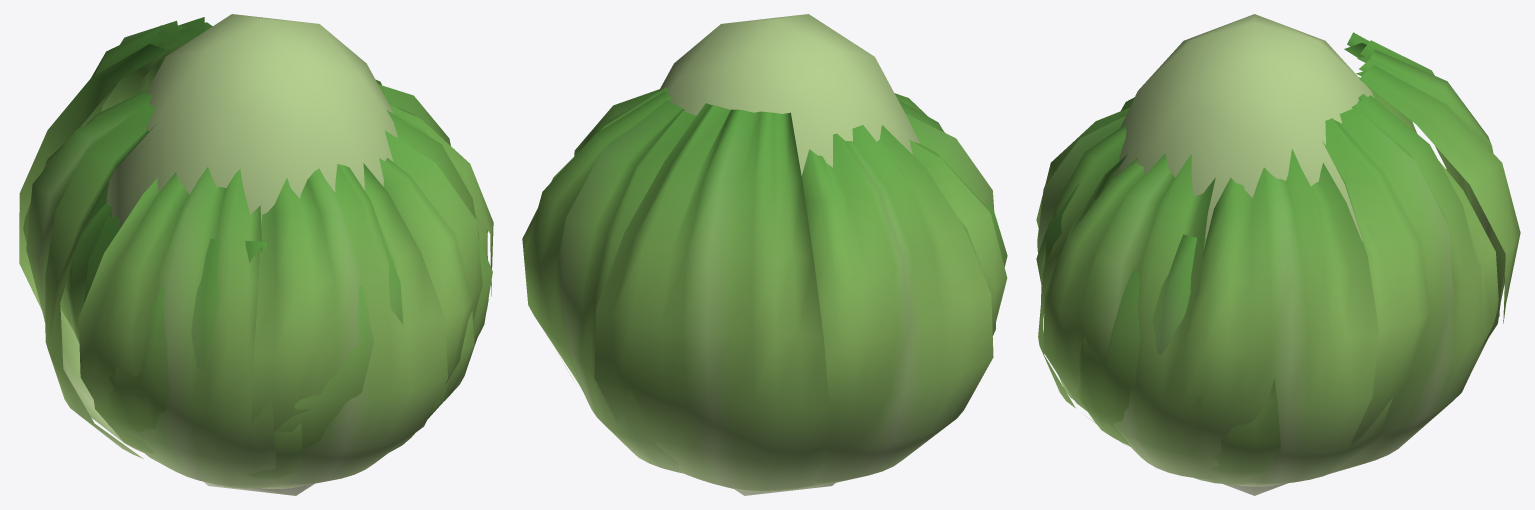
Rendered from kr_lettuce.glb.
3 renders of one model, left to right at view 1: azimuth 30°, elevation 25°; view 2: azimuth 150°, elevation 25°; view 3: azimuth 270°, elevation 25°, orthographic.
Parts seen in each view (by area): view 1: vc_m0_r4; view 2: vc_m0_r4; view 3: vc_m0_r4.
Boxes of the visible parts, x1,y1,x2,y2 form: vc_m0_r4: [19, 14, 493, 495]; vc_m0_r4: [522, 14, 1007, 495]; vc_m0_r4: [1036, 14, 1520, 495].
Bounding box in the file's own units: 0.2505 × 0.2728 × 0.2581.
